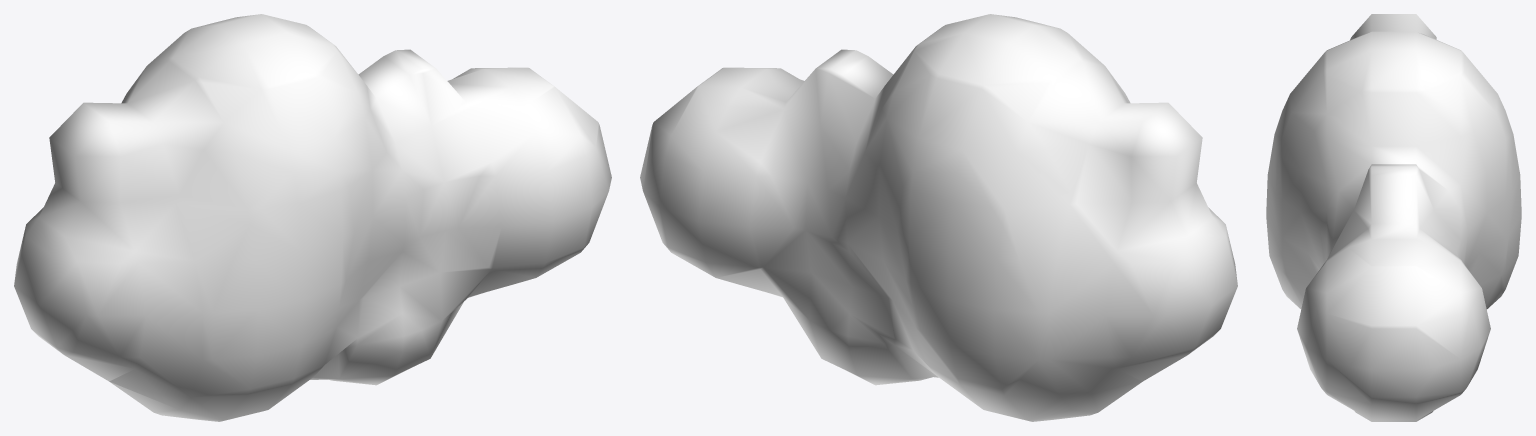
Rendered from cloud10.glb.
3 renders of one model, left to right at view 1: azimuth 30°, elevation 25°; view 2: azimuth 150°, elevation 25°; view 3: azimuth 270°, elevation 25°, orthographic. The views are drawn at different scales.
Parts seen in each view (by area): view 1: Mball.015; view 2: Mball.015; view 3: Mball.015.
Part boxes in pixels (x1=…): Mball.015: x1=14, y1=14, x2=611, y2=421; Mball.015: x1=640, y1=14, x2=1237, y2=421; Mball.015: x1=1266, y1=14, x2=1521, y2=421.
Size of the model in its own units: 4.66 by 2.93 by 2.09.
1 material, 1 textured.
